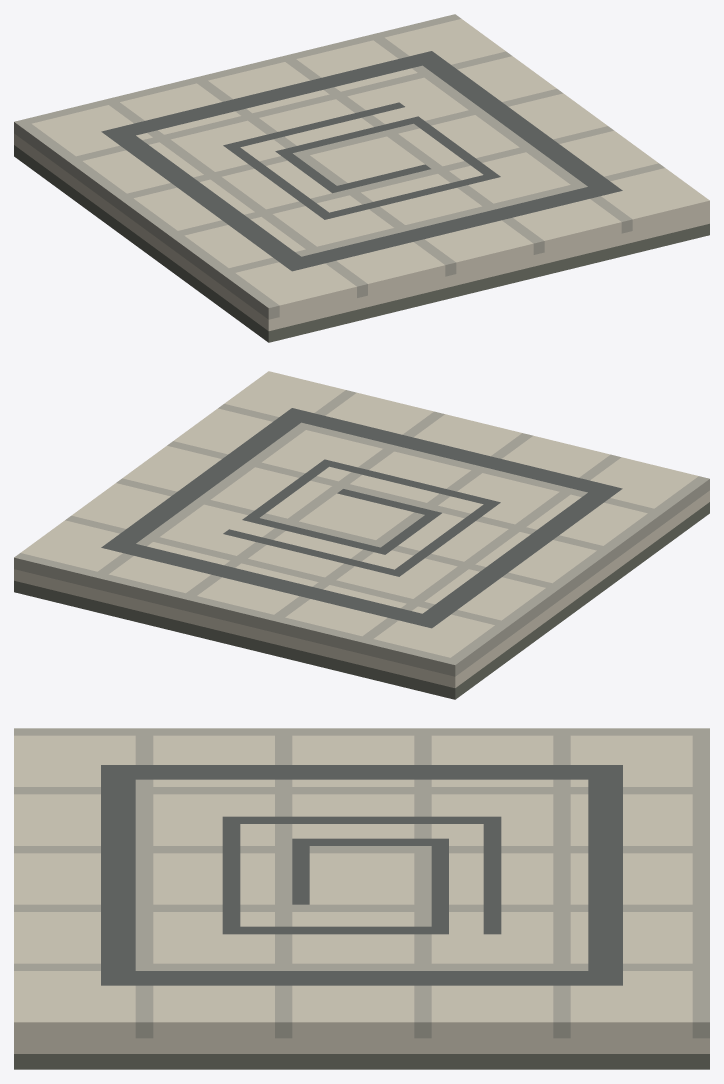
The picture shows the model from 3 angles, top to bottom: view 1: azimuth 30°, elevation 25°; view 2: azimuth 150°, elevation 25°; view 3: azimuth 270°, elevation 25°; orthographic projection. The views are drawn at different scales.
Visible parts, largest first — view 1: 庭院与观景地坪母版; view 2: 庭院与观景地坪母版; view 3: 庭院与观景地坪母版.
Boxes of the visible parts, <box> form: 庭院与观景地坪母版: <box>14,14,709,342</box>; 庭院与观景地坪母版: <box>14,371,709,699</box>; 庭院与观景地坪母版: <box>14,728,709,1069</box>.
Bounding box in the file's own units: 8 × 0.6 × 8.
Materials: 4 (4 with a texture image).
